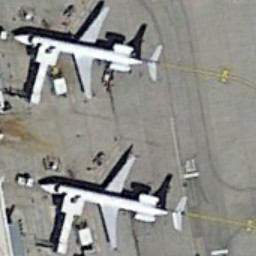Airplane: (7, 1, 171, 117), (29, 148, 194, 251)
